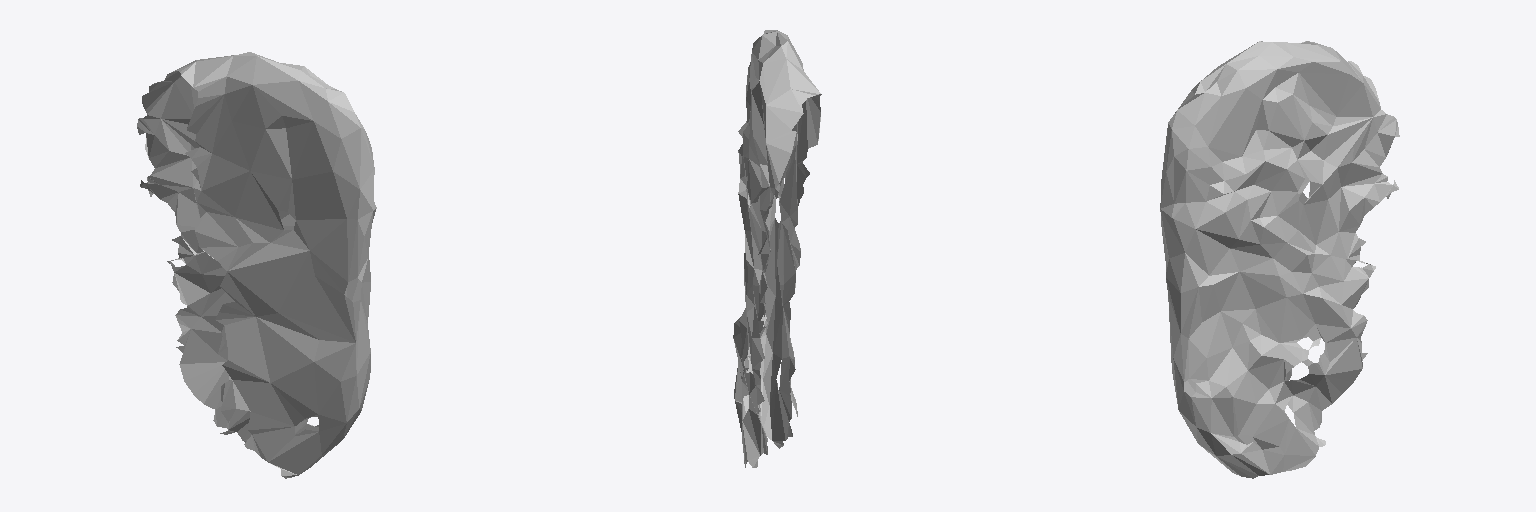
File: door.obj
3 views of the same model, side by side, from view 1: azimuth 30°, elevation 25°; view 2: azimuth 150°, elevation 25°; view 3: azimuth 270°, elevation 25° (orthographic).
Visible parts, largest first — view 1: DoorLO; view 2: DoorLO; view 3: DoorLO.
Boxes of the visible parts, <box> form: DoorLO: <box>137,52,376,478</box>; DoorLO: <box>733,30,821,467</box>; DoorLO: <box>1160,41,1399,478</box>.
Bounding box in the file's own units: 355 × 1041 × 538.